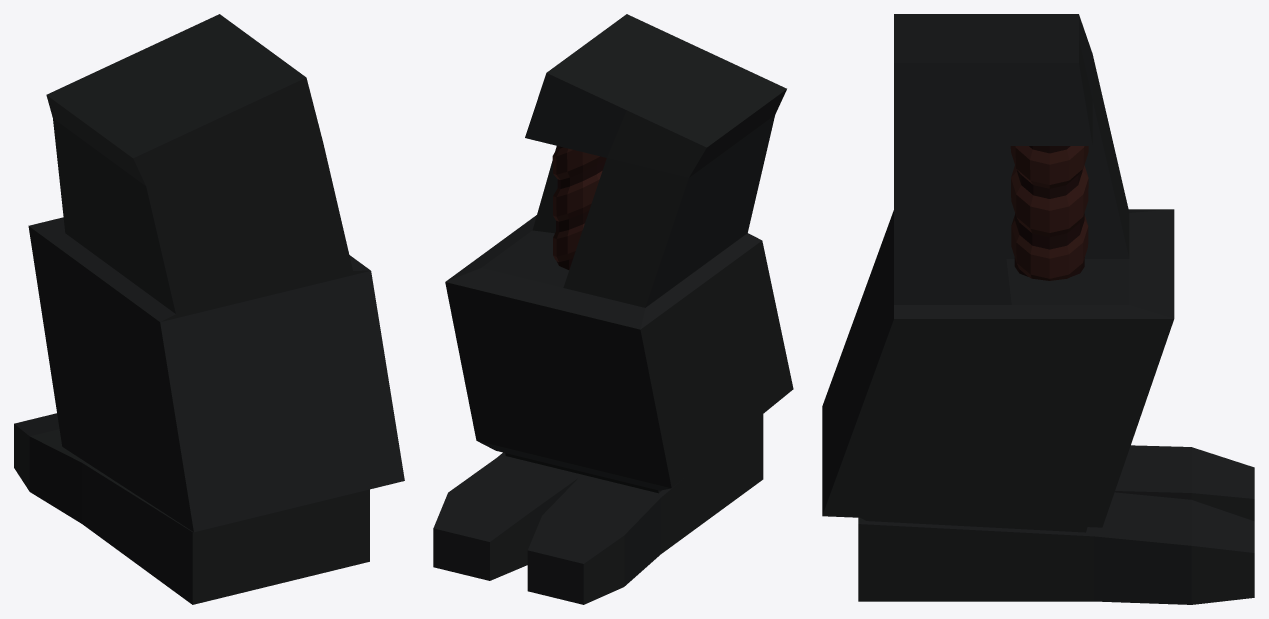
The model's file is Golem_L_Leg.fbx.
The picture shows the model from 3 angles, left to right: view 1: azimuth 30°, elevation 25°; view 2: azimuth 150°, elevation 25°; view 3: azimuth 270°, elevation 25°; orthographic projection. The views are drawn at different scales.
Parts seen in each view (by area): view 1: Golem_L_Leg; view 2: Golem_L_Leg; view 3: Golem_L_Leg.
Boxes of the visible parts, <box> form: Golem_L_Leg: <box>14,14,404,604</box>; Golem_L_Leg: <box>433,14,793,604</box>; Golem_L_Leg: <box>822,14,1254,604</box>.
Bounding box in the file's own units: 47.82 × 93.04 × 70.75.
